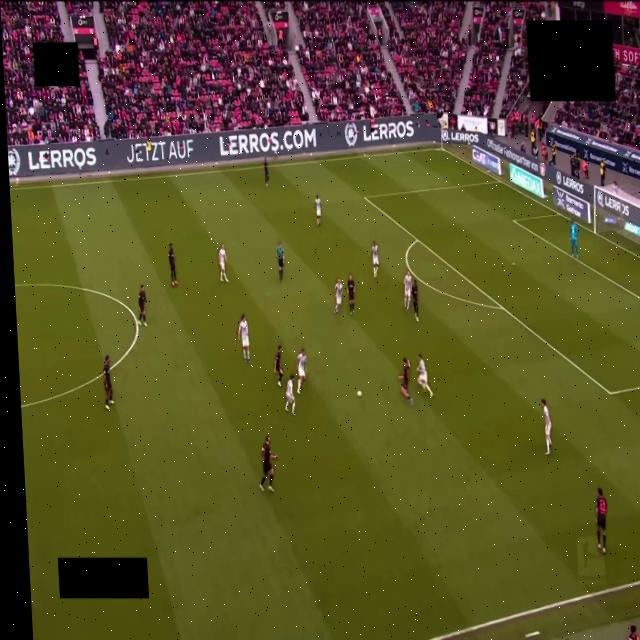ball: (357, 391, 361, 398)
player: (260, 436, 277, 492), (595, 488, 607, 553), (417, 354, 433, 398), (399, 359, 413, 405), (103, 356, 114, 409), (238, 315, 250, 363), (542, 399, 551, 455), (168, 244, 178, 286), (297, 349, 306, 394), (285, 375, 295, 415), (218, 245, 228, 282), (411, 279, 419, 322), (404, 271, 412, 312), (275, 345, 283, 386), (138, 285, 146, 326), (570, 221, 578, 259), (348, 274, 355, 314), (334, 280, 342, 313), (372, 241, 379, 278), (315, 195, 321, 226), (264, 158, 268, 186)
referee: (276, 243, 284, 281)
